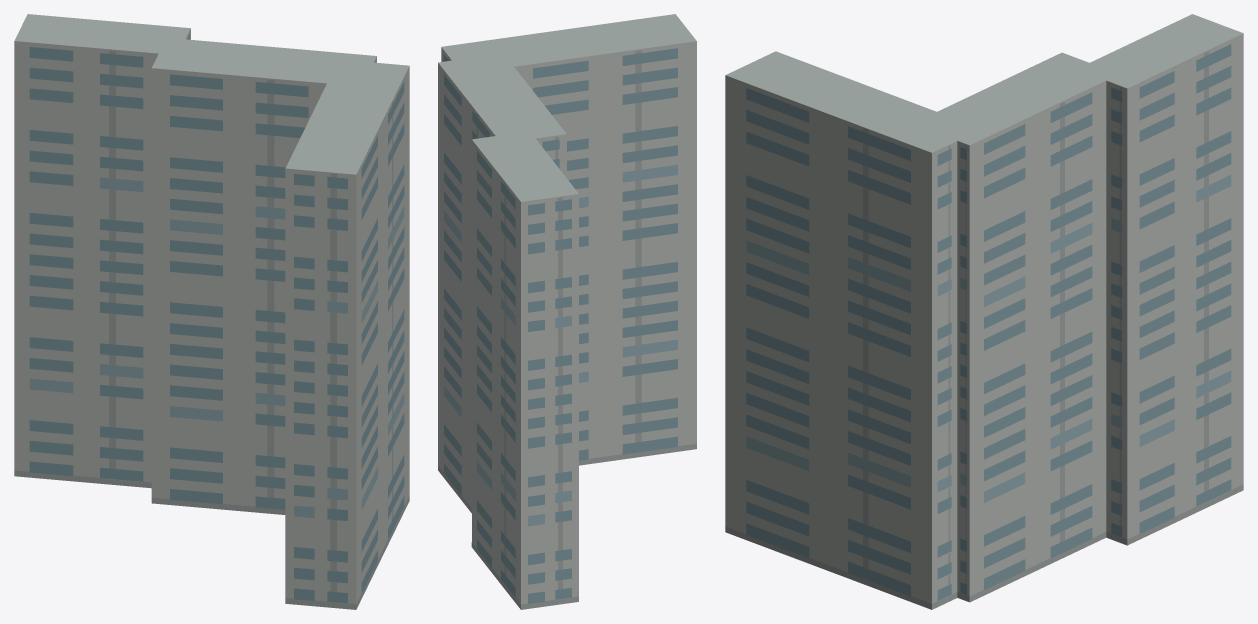
File: residential-5dc44518-21ce-46c4-a171-5d4d516fe85c.glb
3 renders of one model, left to right at view 1: azimuth 30°, elevation 25°; view 2: azimuth 150°, elevation 25°; view 3: azimuth 270°, elevation 25°, orthographic. The views are drawn at different scales.
Visible parts, largest first — view 1: residential-5dc44518-21ce-46c4-a171-5d4d516fe85c.tmp; view 2: residential-5dc44518-21ce-46c4-a171-5d4d516fe85c.tmp; view 3: residential-5dc44518-21ce-46c4-a171-5d4d516fe85c.tmp.
Part boxes in pixels (x1=…): residential-5dc44518-21ce-46c4-a171-5d4d516fe85c.tmp: x1=14, y1=14, x2=409, y2=609; residential-5dc44518-21ce-46c4-a171-5d4d516fe85c.tmp: x1=438, y1=14, x2=696, y2=609; residential-5dc44518-21ce-46c4-a171-5d4d516fe85c.tmp: x1=725, y1=14, x2=1243, y2=609.
Bounding box in the file's own units: 52.8 × 81 × 83.25.
